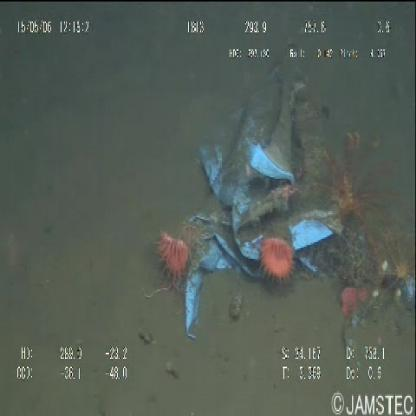Rác: (173, 28, 415, 408)
